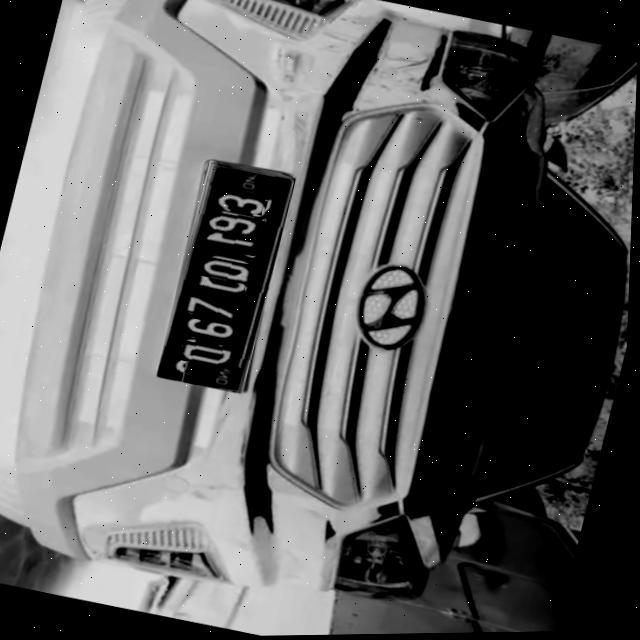1: (202, 226, 259, 255)
3: (215, 190, 266, 216)
7: (185, 295, 244, 323)
9: (205, 208, 263, 240), (218, 170, 270, 197)
C: (196, 275, 247, 303)
D: (180, 338, 238, 369)
IND: (183, 356, 245, 391)
Indian_registered: (158, 163, 295, 392)
L: (181, 316, 241, 347)
Q: (198, 254, 255, 286)
